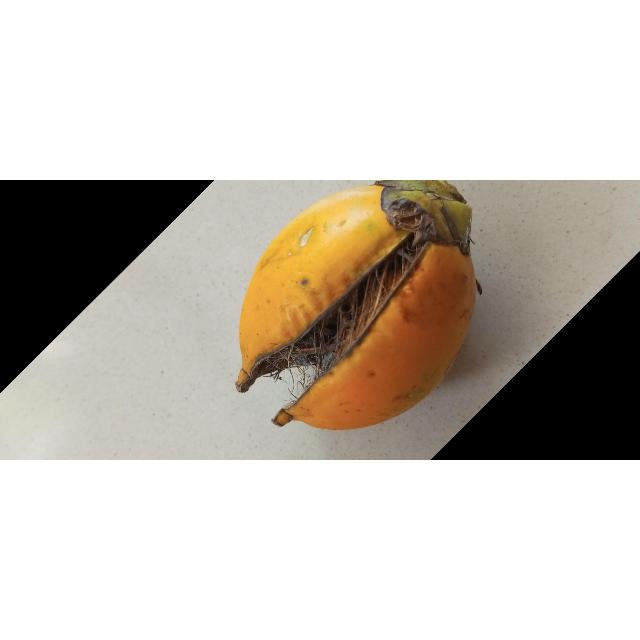damaged: (235, 180, 482, 431)
